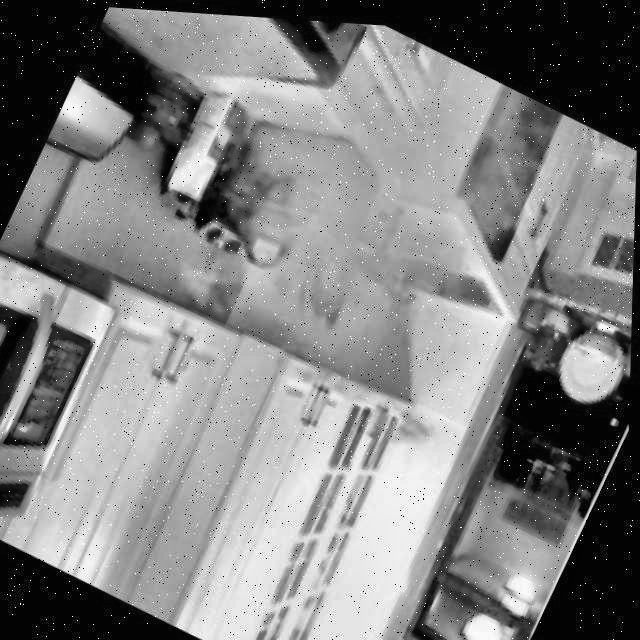Smoke: (93, 12, 637, 492)
